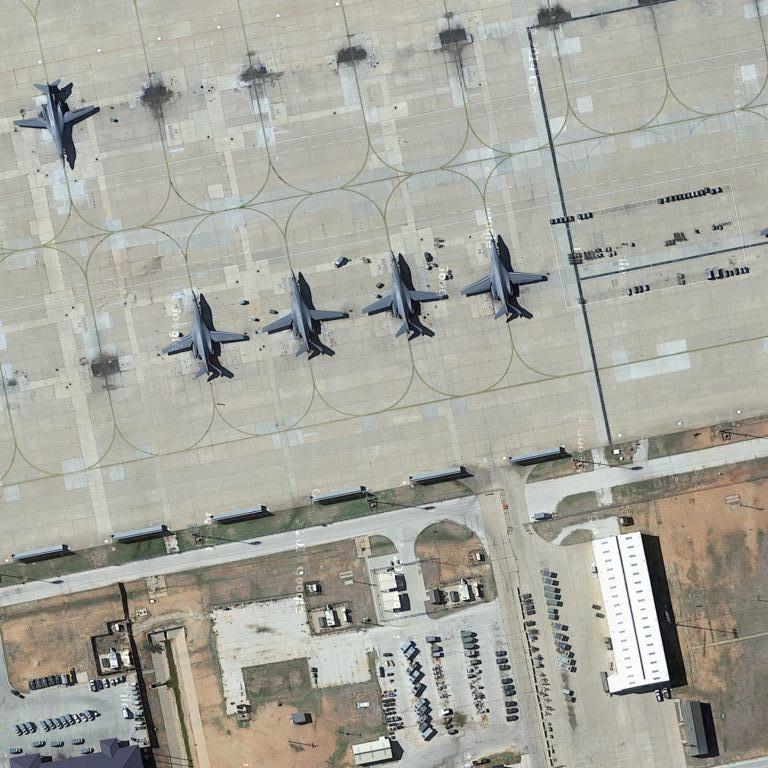B-1B: (460, 231, 549, 324), (262, 268, 349, 362), (161, 290, 248, 384), (14, 74, 99, 169), (365, 251, 445, 345)
